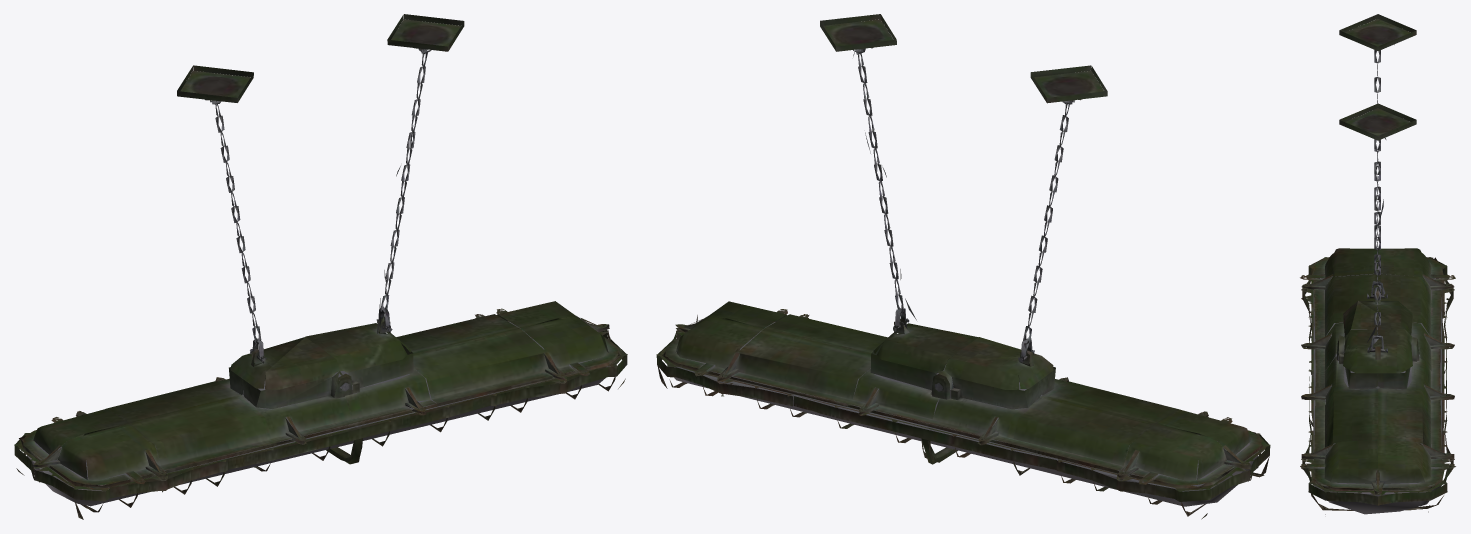
Rendered from kf_lantern_cage.glb.
3 views of the same model, side by side, from view 1: azimuth 30°, elevation 25°; view 2: azimuth 150°, elevation 25°; view 3: azimuth 270°, elevation 25° (orthographic). The views are drawn at different scales.
Visible parts, largest first — view 1: caged_hanging_light; view 2: caged_hanging_light; view 3: caged_hanging_light.
Part boxes in pixels (x1=…): caged_hanging_light: x1=14, y1=14, x2=627, y2=519; caged_hanging_light: x1=656, y1=14, x2=1270, y2=519; caged_hanging_light: x1=1300, y1=14, x2=1455, y2=514.
Size of the model in its own units: 1.17 by 0.7501 by 0.3164.
Materials: 1 (1 with a texture image).
